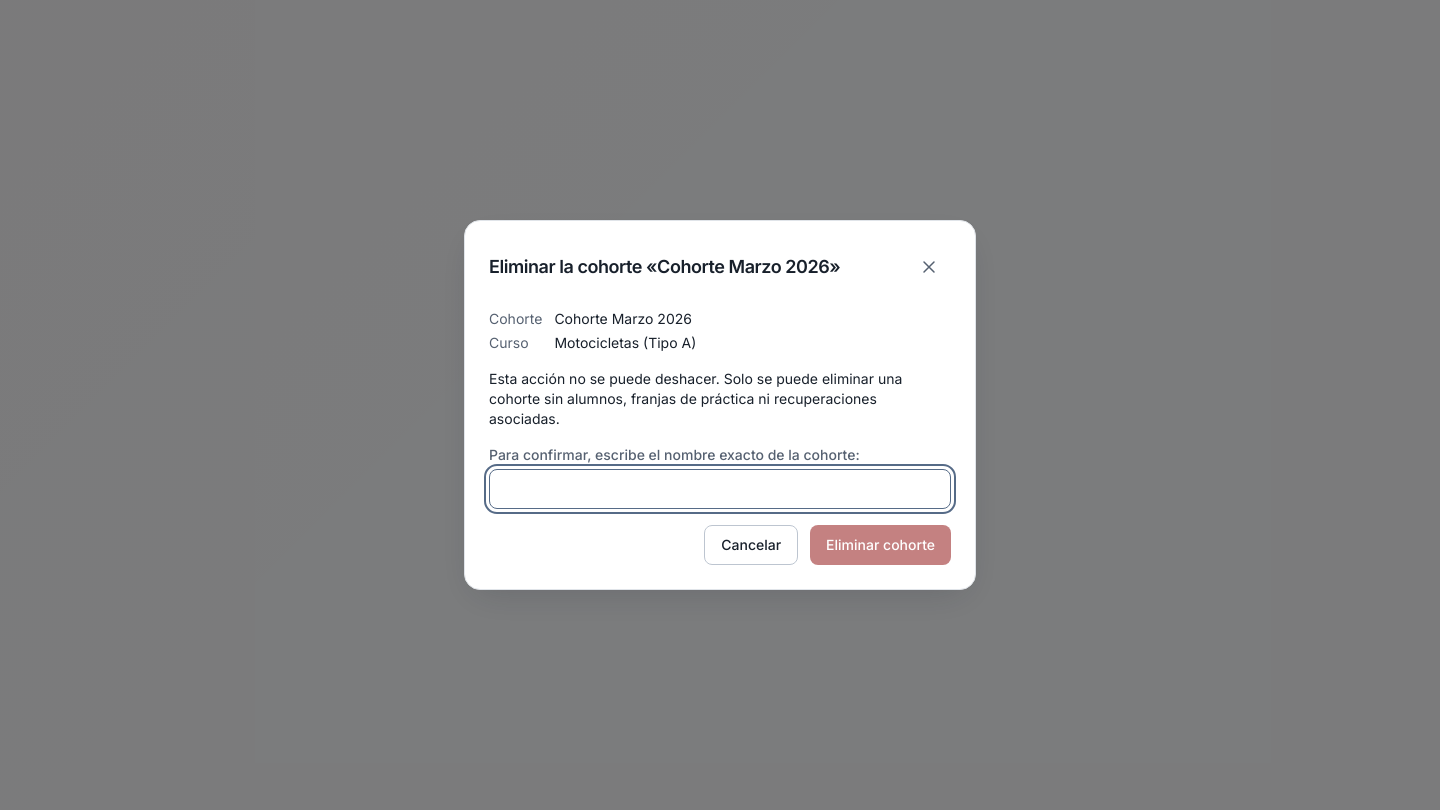
Scenario: DeleteCohortModal › con alumnos o franjas (409) muestra el desglose del servidor tal cual y bloquea
Type "Cohorte Marzo 2026" into the field labelled "Para confirmar, escribe el nombre exacto de la cohorte:".
click(720, 489); type("Cohorte Marzo 2026")  # box [489, 469, 951, 509]
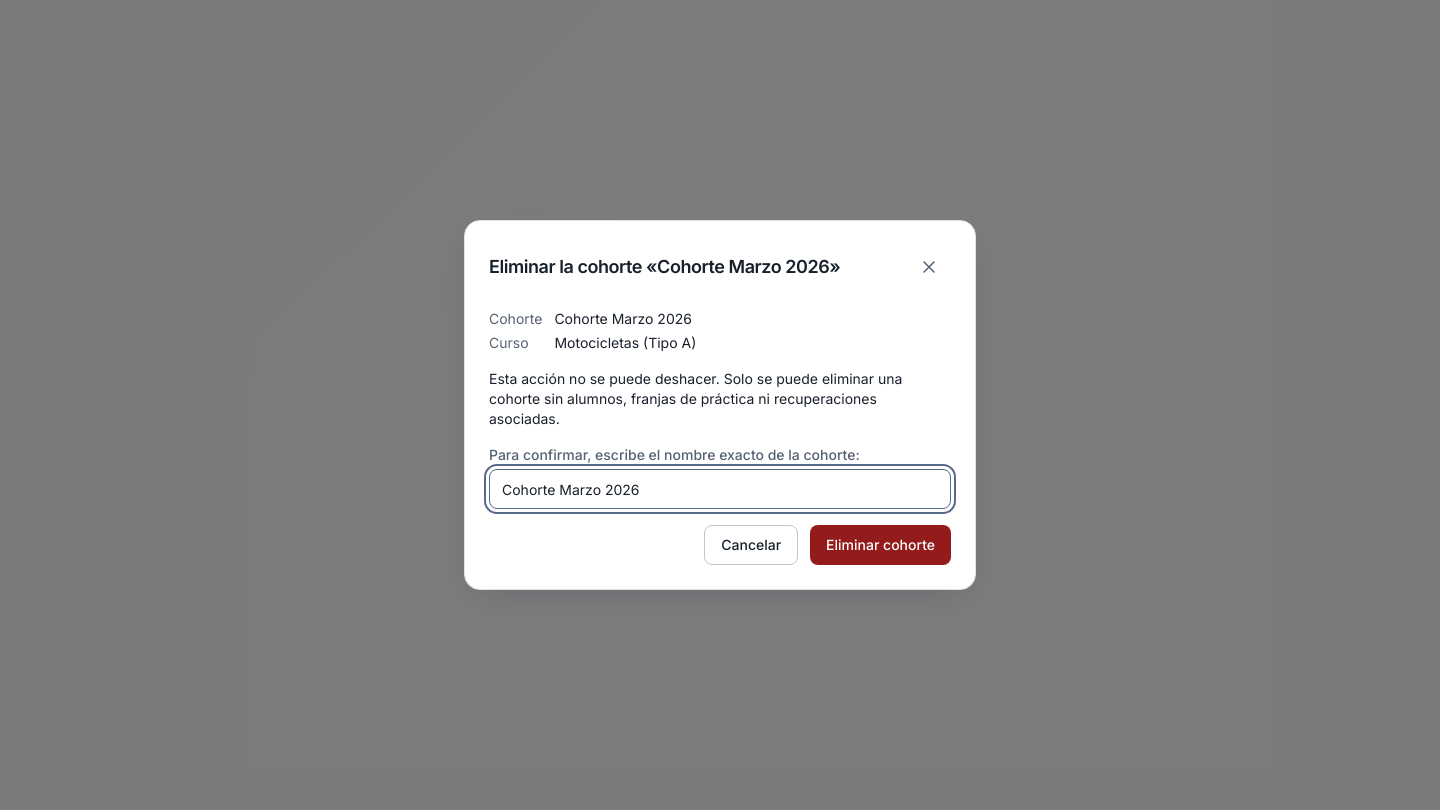
Click the button "Eliminar cohorte".
click(881, 545)  # box [810, 525, 951, 565]
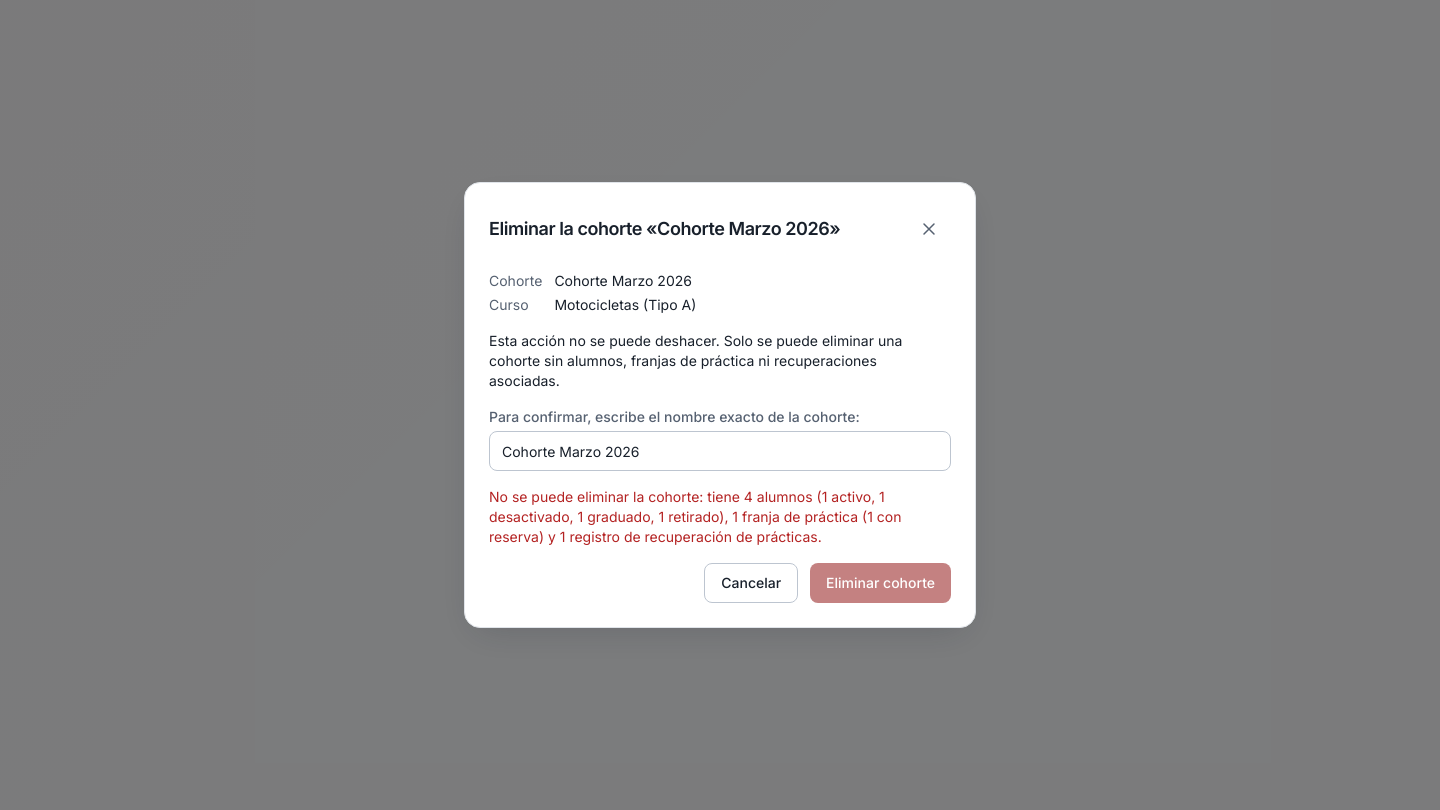
Expected: the message shows "No se puede eliminar la cohorte: tiene 4 alumnos (1 activo, 1 desactivado, 1 graduado, 1 retirado), 1 franja de práctica (1 con reserva) y 1 registro de recuper", [489, 488, 902, 545]
Expected: the button "Eliminar cohorte" is disabled, [810, 563, 951, 603]
Expected: the field labelled "Para confirmar, escribe el nombre exacto de la cohorte:" is disabled, [489, 431, 951, 471]
